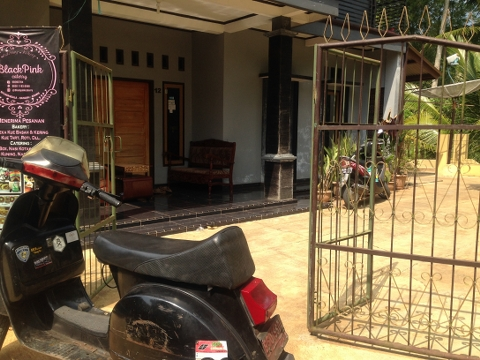kursi: (161, 138, 236, 200)
